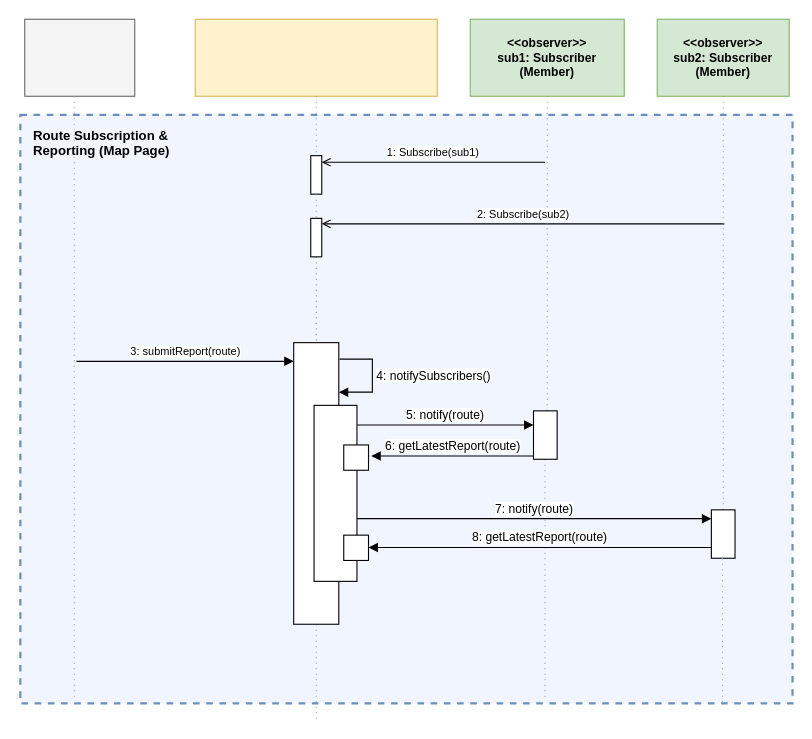
Image size: 812x739. Some labels were removed from this diagram. The shapes that lost their labels are listed below. From the top down, each one's box as (x1, y1, x2, y2) in pixels, then its label:
(24, 18, 135, 96): <<updater>> c: Client (Member)
(194, 18, 437, 96): <<observee>> Route
